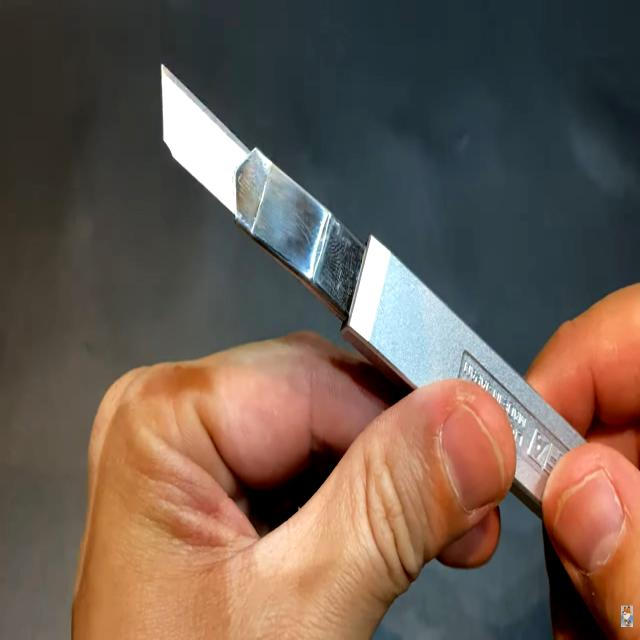cutter: (53, 37, 640, 640)
